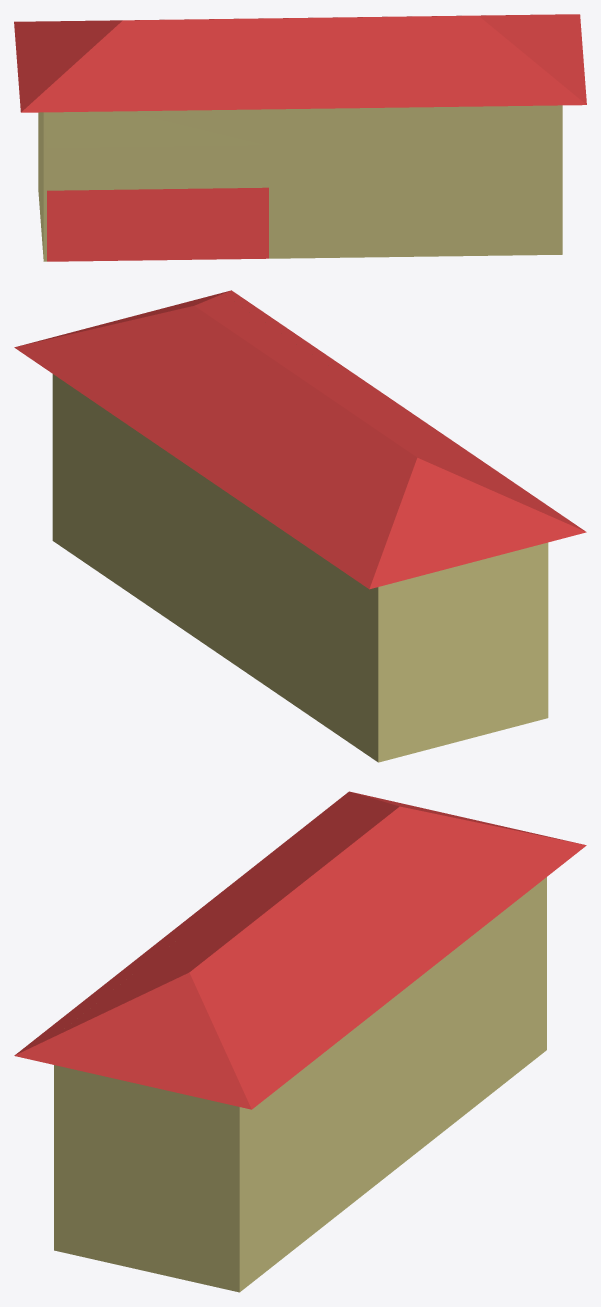
3 views of the same model, one above another, from view 1: azimuth 30°, elevation 25°; view 2: azimuth 150°, elevation 25°; view 3: azimuth 270°, elevation 25° (orthographic). The views are drawn at different scales.
Parts seen in each view (by area): view 1: group_5, group_3, group_6, group_4; view 2: group_5, group_3, group_4; view 3: group_5, group_3, group_4.
Part boxes in pixels (x1,y1,x2,y2): group_5: (38, 105, 562, 261); group_3: (14, 14, 586, 112); group_6: (47, 187, 268, 261); group_4: (21, 16, 586, 112); group_5: (52, 374, 548, 762); group_3: (14, 291, 585, 589); group_4: (17, 290, 586, 588); group_5: (54, 877, 546, 1292); group_3: (14, 791, 585, 1109); group_4: (14, 792, 586, 1105).
Size of the model in its own units: 25.43 by 19.35 by 9.67.
